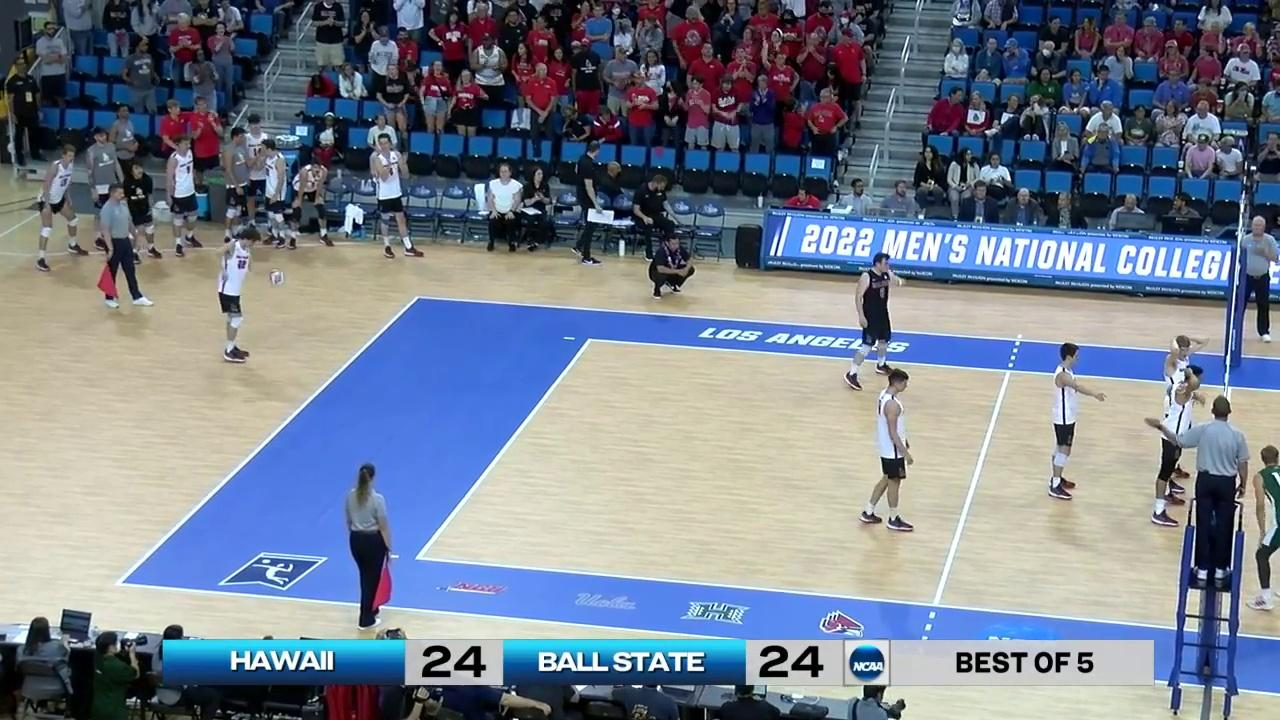player: (861, 372, 917, 532), (1151, 366, 1202, 526), (1050, 343, 1097, 502), (1158, 331, 1205, 489), (848, 253, 903, 387), (215, 225, 260, 360), (1248, 447, 1280, 611)
refree: (1183, 395, 1251, 585), (345, 463, 399, 628), (95, 180, 150, 307), (1235, 215, 1279, 344)
